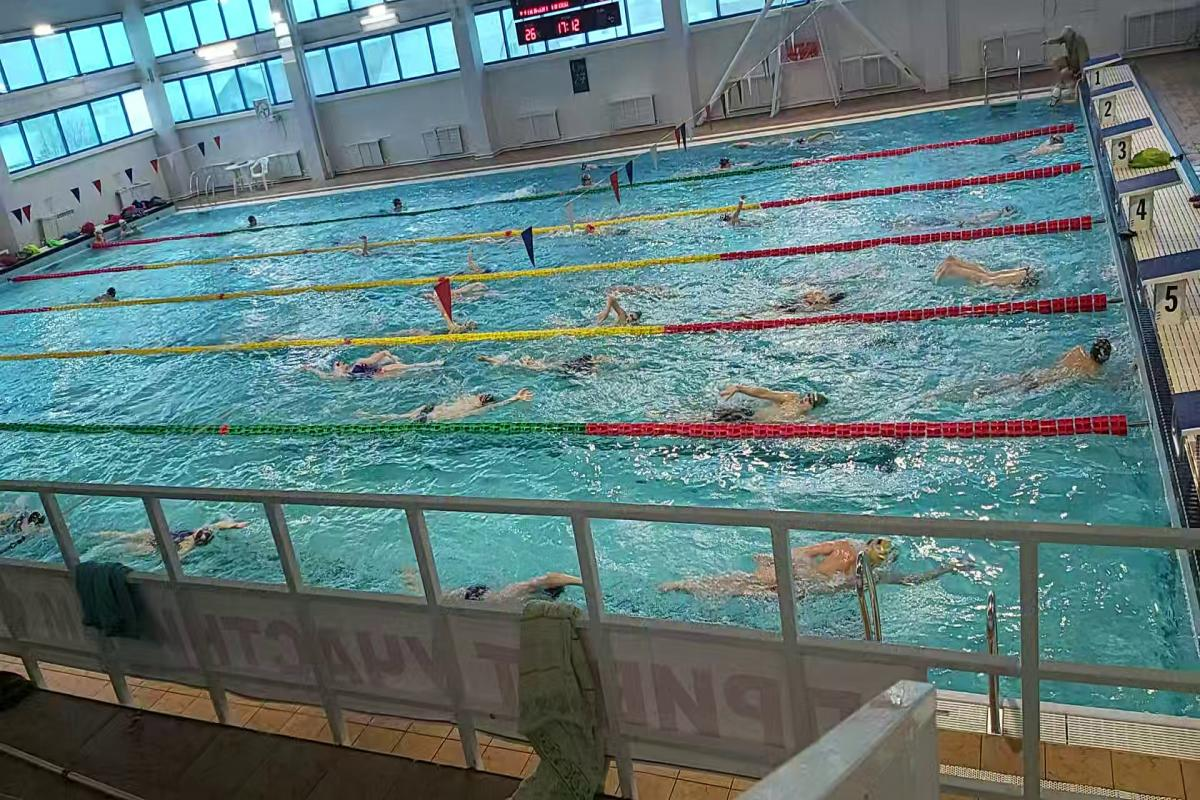swimmer: (664, 534, 930, 598), (410, 559, 583, 604), (106, 507, 252, 558), (1020, 330, 1120, 401), (721, 370, 837, 425), (925, 255, 1059, 298), (309, 344, 448, 382), (392, 390, 532, 424), (780, 278, 864, 312), (593, 290, 665, 322), (941, 198, 1023, 223), (716, 207, 783, 235), (5, 505, 48, 545), (1017, 135, 1075, 161), (455, 250, 508, 271), (91, 284, 131, 304), (346, 240, 381, 262)
